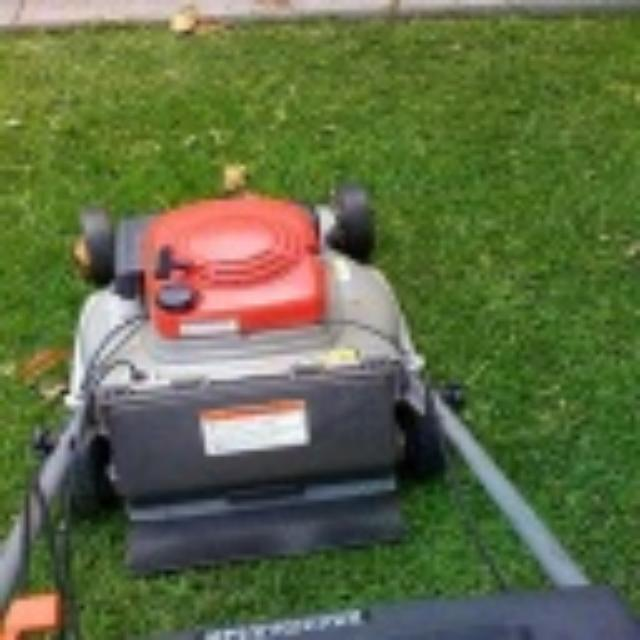Rotary-Mower: (0, 174, 638, 640)
